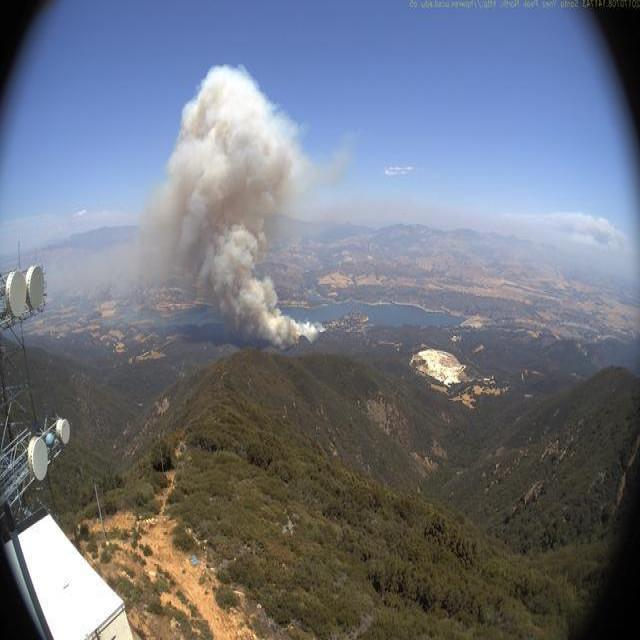Smoke: (138, 57, 335, 348)
